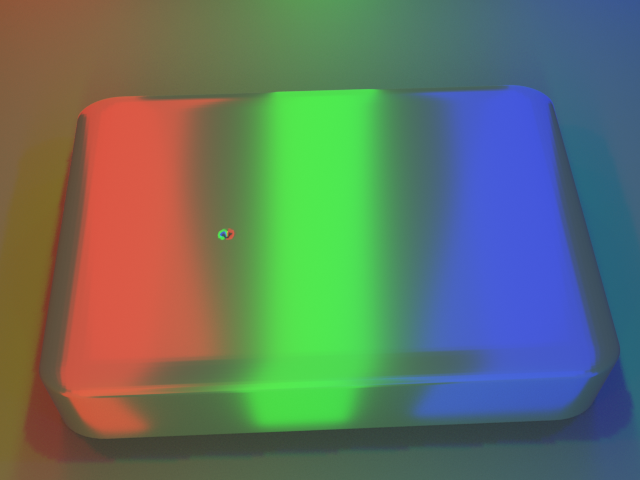dent: (197, 220, 235, 255)
